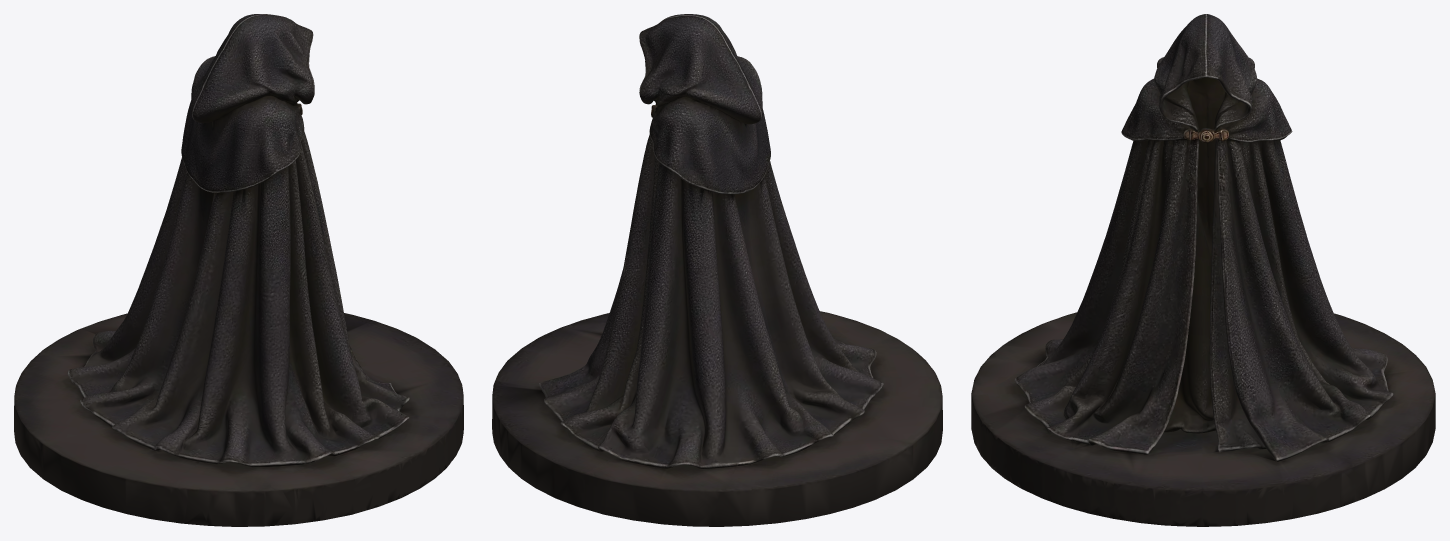
Rendered from wayfarer-cloak.glb.
3 renders of one model, left to right at view 1: azimuth 30°, elevation 25°; view 2: azimuth 150°, elevation 25°; view 3: azimuth 270°, elevation 25°, orthographic. The views are drawn at different scales.
Parts seen in each view (by area): view 1: tripo_node_5e25a749-b8a2-4a90-a18a-d254cd94a71d; view 2: tripo_node_5e25a749-b8a2-4a90-a18a-d254cd94a71d; view 3: tripo_node_5e25a749-b8a2-4a90-a18a-d254cd94a71d.
Boxes of the visible parts, left/top/right/bottom form: tripo_node_5e25a749-b8a2-4a90-a18a-d254cd94a71d: left=14, top=14, right=463, bottom=526; tripo_node_5e25a749-b8a2-4a90-a18a-d254cd94a71d: left=492, top=14, right=942, bottom=526; tripo_node_5e25a749-b8a2-4a90-a18a-d254cd94a71d: left=971, top=14, right=1435, bottom=526.
Bounding box in the file's own units: 0.9965 × 0.9999 × 0.9995.
1 material, 1 textured.
